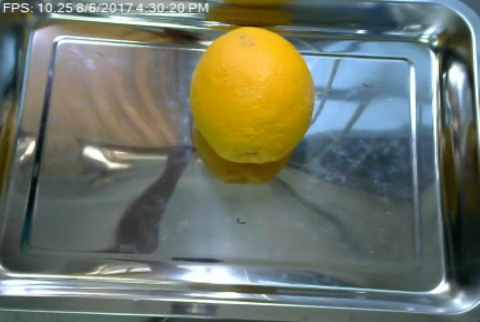Orange: (190, 26, 313, 163)
